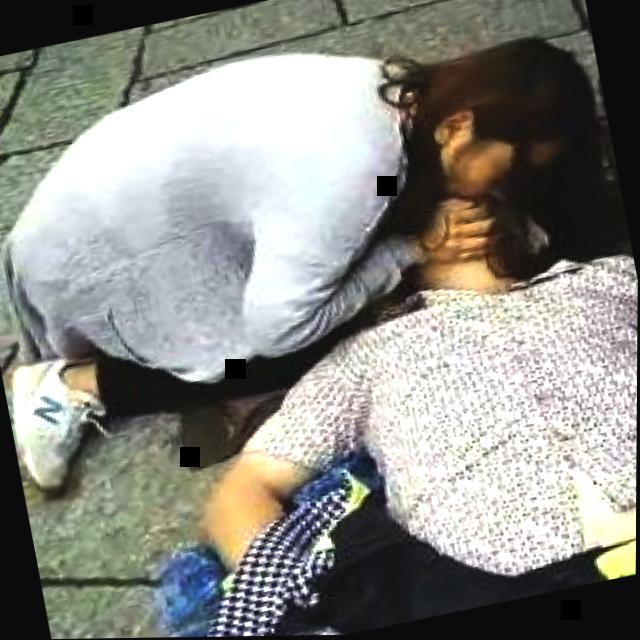Fall-Detected: (6, 133, 639, 640)
